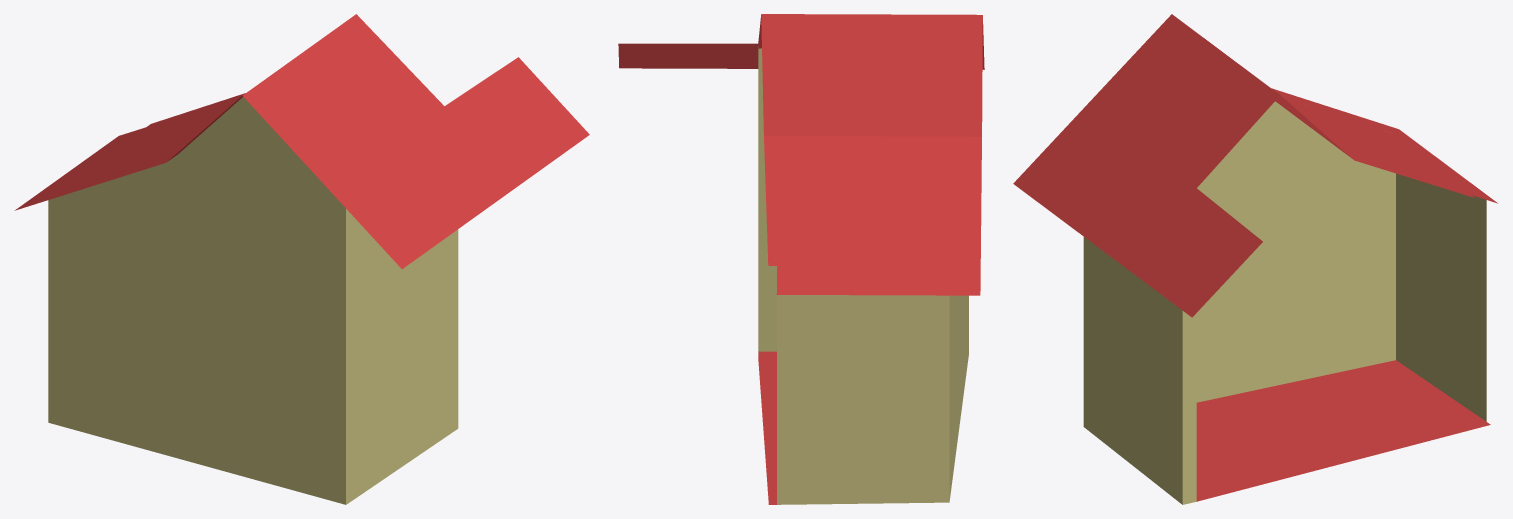
The picture shows the model from 3 angles, left to right: view 1: azimuth 30°, elevation 25°; view 2: azimuth 150°, elevation 25°; view 3: azimuth 270°, elevation 25°; orthographic projection.
Size of the model in its own units: 17.08 by 15.51 by 13.55.
